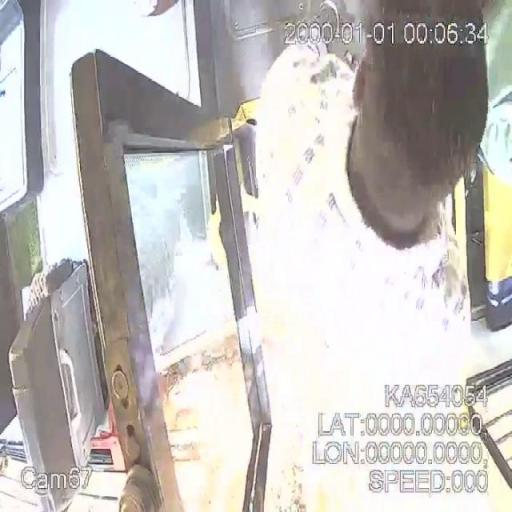persona: (240, 2, 500, 454)
